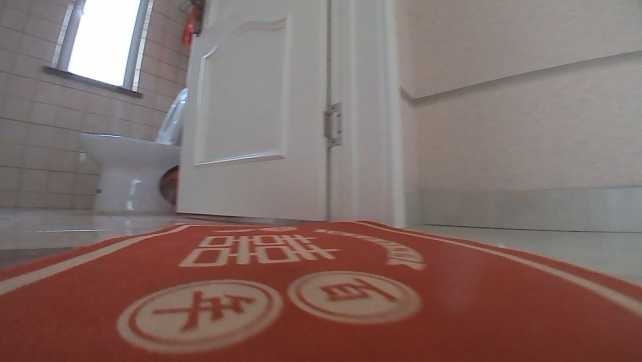blanket: (0, 218, 641, 360)
door_anno: (177, 0, 329, 219)
toilet: (80, 84, 188, 215)
